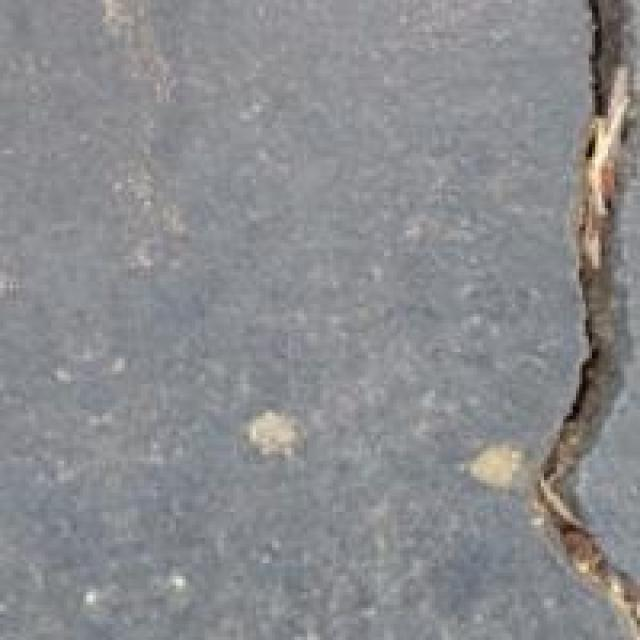Crack: (458, 0, 636, 637)
